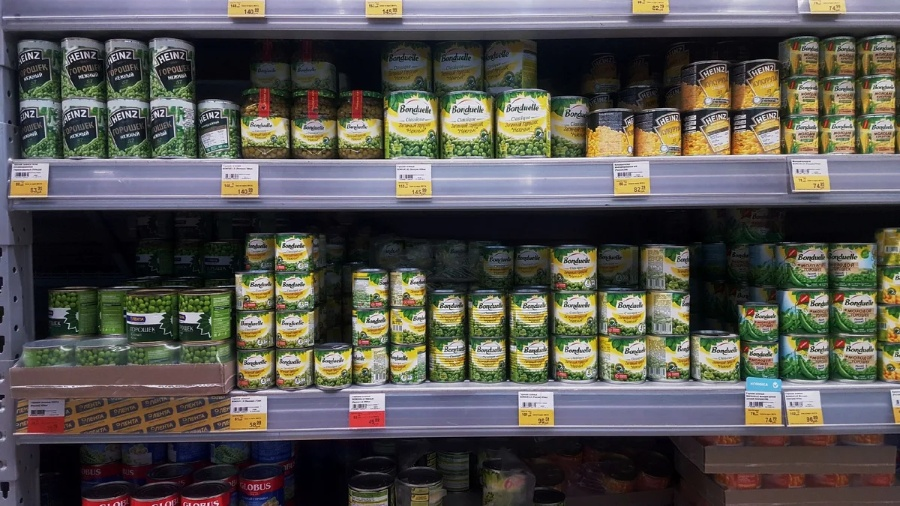peas: (234, 85, 299, 164), (492, 87, 562, 160), (285, 85, 348, 163), (379, 87, 444, 162), (436, 88, 500, 162), (331, 86, 390, 162), (58, 36, 114, 108), (121, 285, 184, 348), (144, 99, 204, 165), (14, 98, 71, 167), (146, 36, 201, 107), (100, 95, 155, 166), (12, 32, 67, 102), (177, 287, 243, 344), (58, 98, 116, 162), (101, 39, 155, 107), (778, 285, 836, 339), (829, 239, 889, 291), (829, 331, 883, 388), (776, 240, 833, 291), (831, 284, 881, 337), (780, 335, 834, 384)
